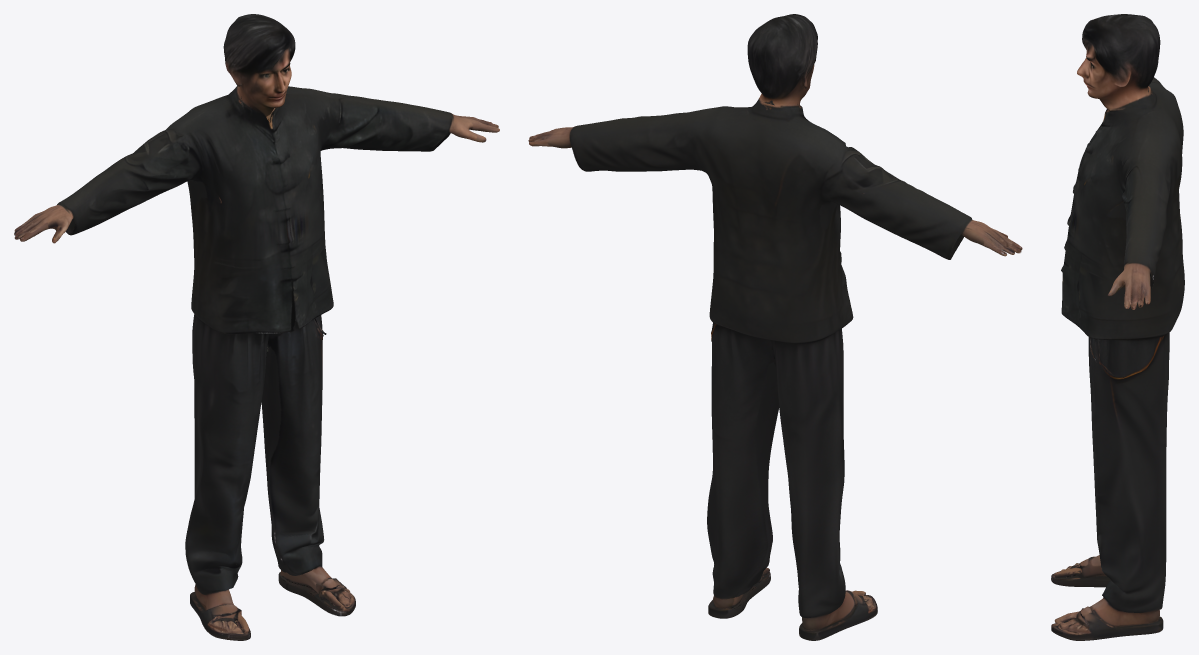
File: cha.glb
The picture shows the model from 3 angles, left to right: view 1: azimuth 30°, elevation 25°; view 2: azimuth 150°, elevation 25°; view 3: azimuth 270°, elevation 25°; orthographic projection.
Parts seen in each view (by area): view 1: model.002; view 2: model.002; view 3: model.002.
Part boxes in pixels (<box>): model.002: <box>14,14,499,640</box>; model.002: <box>528,14,1022,640</box>; model.002: <box>1051,14,1184,640</box>.
Size of the model in its own units: 1.65 by 1.9 by 0.3915.
Materials: 1 (1 with a texture image).
